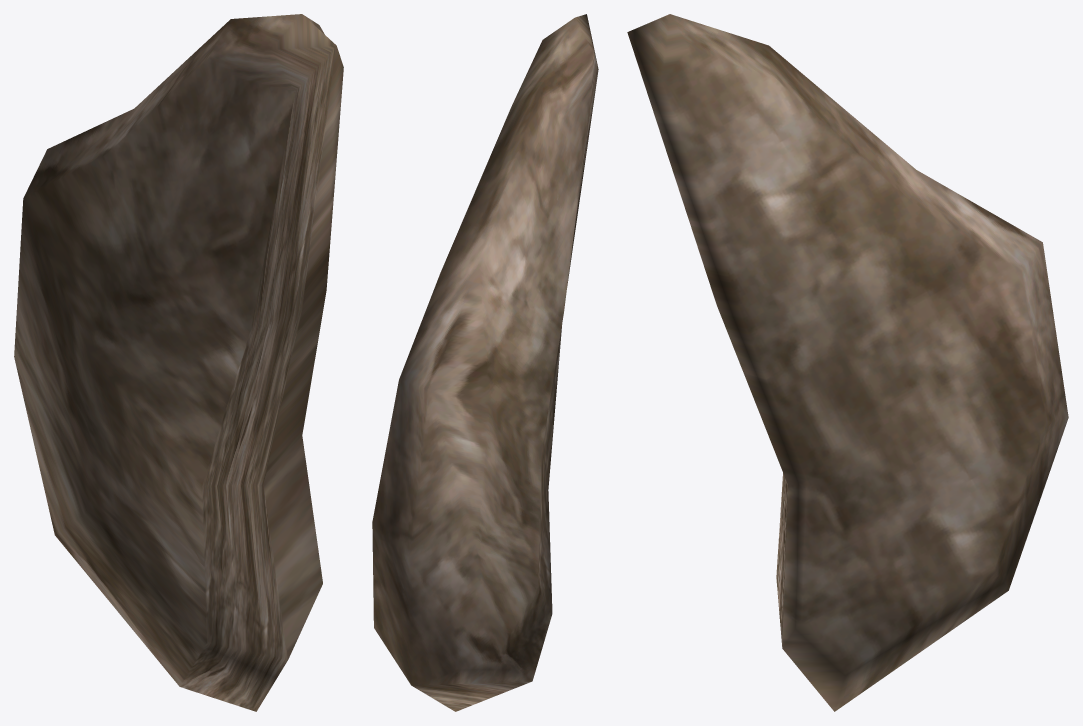
Rendered from OVERHILL_A_01_LINE306.fbx.
3 views of the same model, side by side, from view 1: azimuth 30°, elevation 25°; view 2: azimuth 150°, elevation 25°; view 3: azimuth 270°, elevation 25° (orthographic). The views are drawn at different scales.
Parts seen in each view (by area): view 1: OVERHILL_A_01_LINE306; view 2: OVERHILL_A_01_LINE306; view 3: OVERHILL_A_01_LINE306.
Boxes of the visible parts, bbox=[...] form: OVERHILL_A_01_LINE306: bbox=[14, 14, 343, 711]; OVERHILL_A_01_LINE306: bbox=[372, 14, 598, 711]; OVERHILL_A_01_LINE306: bbox=[627, 14, 1068, 711].
Bounding box in the file's own units: 11634 × 46916 × 27713.
Materials: 1 (1 with a texture image).
